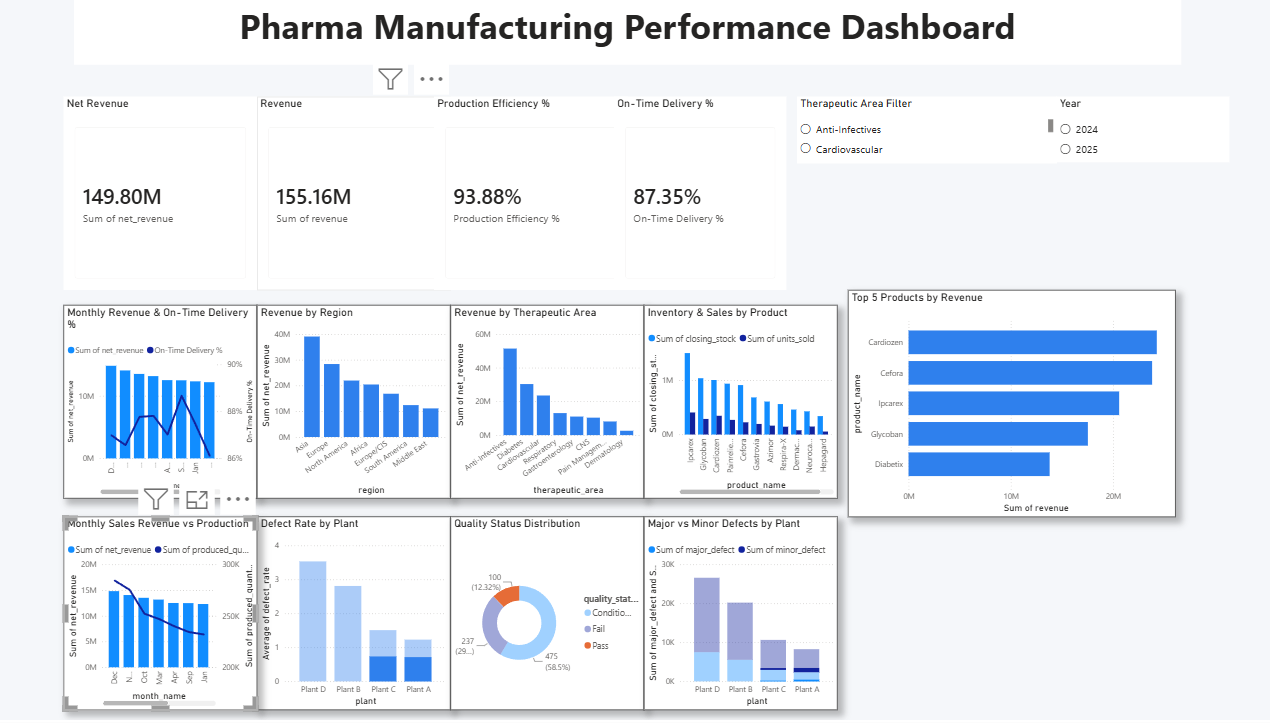

The dashboard page shown, as its layout file describes it:
{"tool":"powerbi","page":{"name":"Monthly Revenue & On-Time Delivery %","canvas":[3000,1400],"ordinal":0},"visuals":[{"type":"cardVisual","title":"Net Revenue","fields":{"Data":["Sum(FACT_SALES.net_revenue)"]},"box":[100,150,300,300],"z":0},{"type":"cardVisual","title":"Revenue","fields":{"Data":["Sum(FACT_SALES.revenue)"]},"box":[400,150,300,300],"z":1000},{"type":"cardVisual","title":"Production Efficiency %","fields":{"Data":["DIM_COUNTRY.Production Efficiency %"]},"box":[675,150,300,300],"z":2000},{"type":"cardVisual","title":"On-Time Delivery %","fields":{"Data":["DIM_COUNTRY.On-Time Delivery %"]},"box":[954.2,150,267.2,300],"z":3000},{"type":"lineClusteredColumnComboChart","title":"Monthly Revenue & On-Time Delivery %","fields":{"Category":["DIM_DATE.month_name"],"Y":["Sum(FACT_SALES.net_revenue)"],"Y2":["DIM_COUNTRY.On-Time Delivery %"]},"box":[100,475,300,300],"z":4000},{"type":"lineClusteredColumnComboChart","title":"Revenue by Region","fields":{"Category":["FACT_SALES.region"],"Y":["Sum(FACT_SALES.net_revenue)"]},"box":[400,475,300,300],"z":5000},{"type":"lineClusteredColumnComboChart","title":"Revenue by Therapeutic Area","fields":{"Category":["FACT_SALES.therapeutic_area"],"Y":["Sum(FACT_SALES.net_revenue)"]},"box":[700,475,300,300],"z":6000},{"type":"lineClusteredColumnComboChart","title":"Inventory & Sales by Product","fields":{"Category":["FACT_INVENTORY.product_name"],"Y":["Sum(FACT_INVENTORY.closing_stock)","Sum(FACT_INVENTORY.units_sold)"]},"box":[1000,475,300,300],"z":7000},{"type":"lineClusteredColumnComboChart","title":"Monthly Sales Revenue vs Production","fields":{"Category":["DIM_DATE.month_name"],"Y":["Sum(FACT_SALES.net_revenue)"],"Y2":["Sum(FACT_PRODUCTION.produced_quantity)"]},"box":[100,802.1,300,300],"z":8000},{"type":"lineClusteredColumnComboChart","title":"Defect Rate by Plant","fields":{"Category":["FACT_QUALITY.plant"],"Y":["Avg(FACT_QUALITY.defect_rate)"]},"box":[400,802.1,300,300],"z":9000},{"type":"donutChart","title":"Quality Status Distribution","fields":{"Category":["FACT_QUALITY.quality_status"],"Y":["CountNonNull(FACT_QUALITY.batch_id)"]},"box":[700,802.1,300,300],"z":10000},{"type":"columnChart","title":"Major vs Minor Defects by Plant","fields":{"Category":["FACT_QUALITY.plant"],"Y":["Sum(FACT_QUALITY.major_defect)","Sum(FACT_QUALITY.minor_defect)"]},"box":[1000,802.1,300,300],"z":11000},{"type":"textbox","box":[116.7,0,1716.7,102.1],"z":12000},{"type":"listSlicer","title":"Therapeutic Area Filter","fields":{"Values":["FACT_SALES.therapeutic_area"]},"box":[1237.5,150,402.5,102.5],"z":13000},{"type":"listSlicer","title":"Year","fields":{"Values":["DIM_DATE.year"]},"box":[1639.6,150,268,102],"z":14000},{"type":"clusteredBarChart","title":"Top 5 Products by Revenue","fields":{"Category":["FACT_SALES.product_name"],"Y":["Sum(FACT_SALES.revenue)"]},"box":[1316.7,450,508,352],"z":15000}]}

Visuals, with their boxes on the page's 3000x1400 design canvas (x1, y1, x2, y2). These are canvas units, not pixel positions in the 1270x723 screenshot, which may show the page scaled, cropped or inside an application window:
"Net Revenue" cardVisual: region(100, 150, 400, 450)
"Revenue" cardVisual: region(400, 150, 700, 450)
"Production Efficiency %" cardVisual: region(675, 150, 975, 450)
"On-Time Delivery %" cardVisual: region(954, 150, 1221, 450)
"Monthly Revenue & On-Time Delivery %" lineClusteredColumnComboChart: region(100, 475, 400, 775)
"Revenue by Region" lineClusteredColumnComboChart: region(400, 475, 700, 775)
"Revenue by Therapeutic Area" lineClusteredColumnComboChart: region(700, 475, 1000, 775)
"Inventory & Sales by Product" lineClusteredColumnComboChart: region(1000, 475, 1300, 775)
"Monthly Sales Revenue vs Production" lineClusteredColumnComboChart: region(100, 802, 400, 1102)
"Defect Rate by Plant" lineClusteredColumnComboChart: region(400, 802, 700, 1102)
"Quality Status Distribution" donutChart: region(700, 802, 1000, 1102)
"Major vs Minor Defects by Plant" columnChart: region(1000, 802, 1300, 1102)
textbox: region(117, 0, 1833, 102)
"Therapeutic Area Filter" listSlicer: region(1238, 150, 1640, 252)
"Year" listSlicer: region(1640, 150, 1908, 252)
"Top 5 Products by Revenue" clusteredBarChart: region(1317, 450, 1825, 802)
